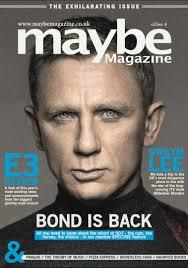Printing industry: (1, 1, 188, 268)
